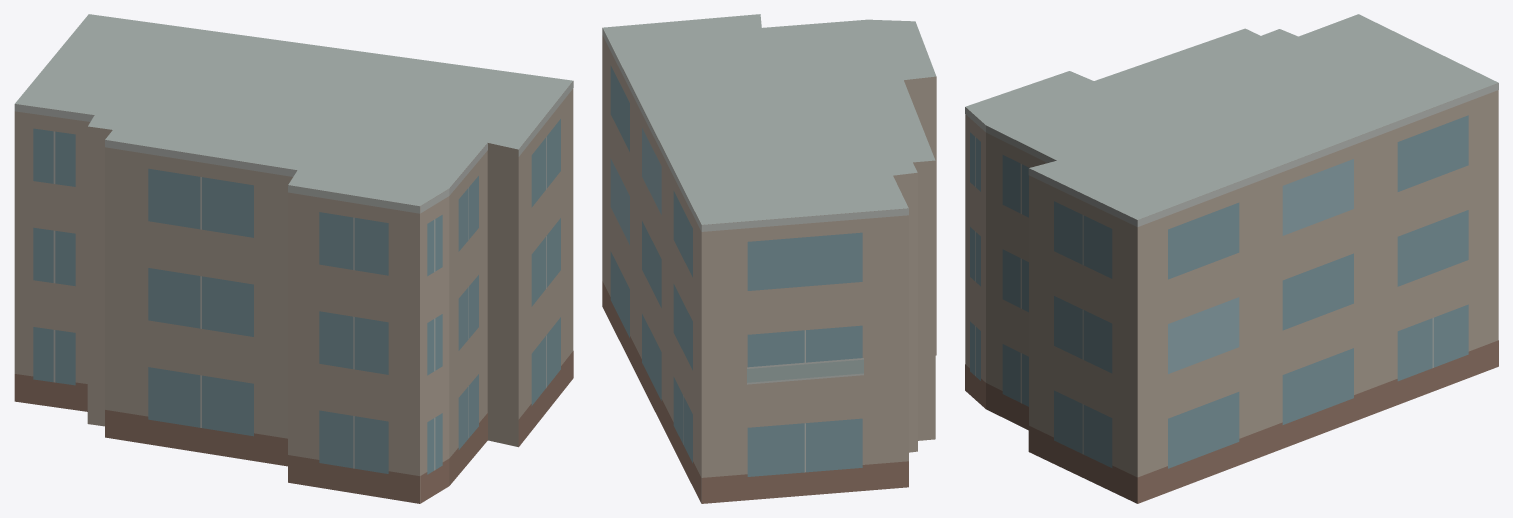
The model's file is survey-upis-32752056.glb.
3 renders of one model, left to right at view 1: azimuth 30°, elevation 25°; view 2: azimuth 150°, elevation 25°; view 3: azimuth 270°, elevation 25°, orthographic. The views are drawn at different scales.
Visible parts, largest first — view 1: survey-upis-32752056.tmp; view 2: survey-upis-32752056.tmp; view 3: survey-upis-32752056.tmp.
Boxes of the visible parts, x1,y1,x2,y2 form: survey-upis-32752056.tmp: (14, 14, 573, 503); survey-upis-32752056.tmp: (602, 14, 936, 503); survey-upis-32752056.tmp: (965, 14, 1498, 503).
Size of the model in its own units: 15.11 by 9.7 by 16.54.
